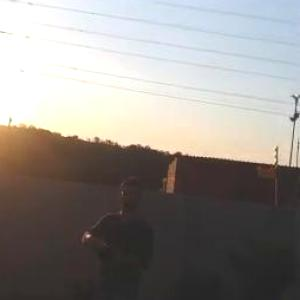follow: (74, 172, 166, 299)
